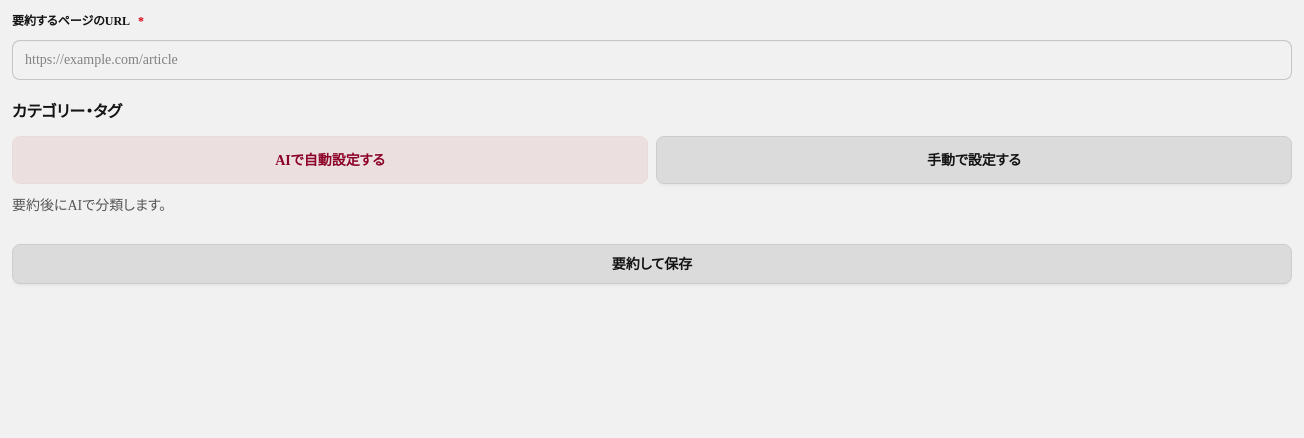
Test: メモ作成フォーム › AI要約作成でもカテゴリー別の未入力タグ候補を表示する
Click the button "手動で設定する" at (974, 160), box top-left (656, 136), bottom-right (1292, 184)
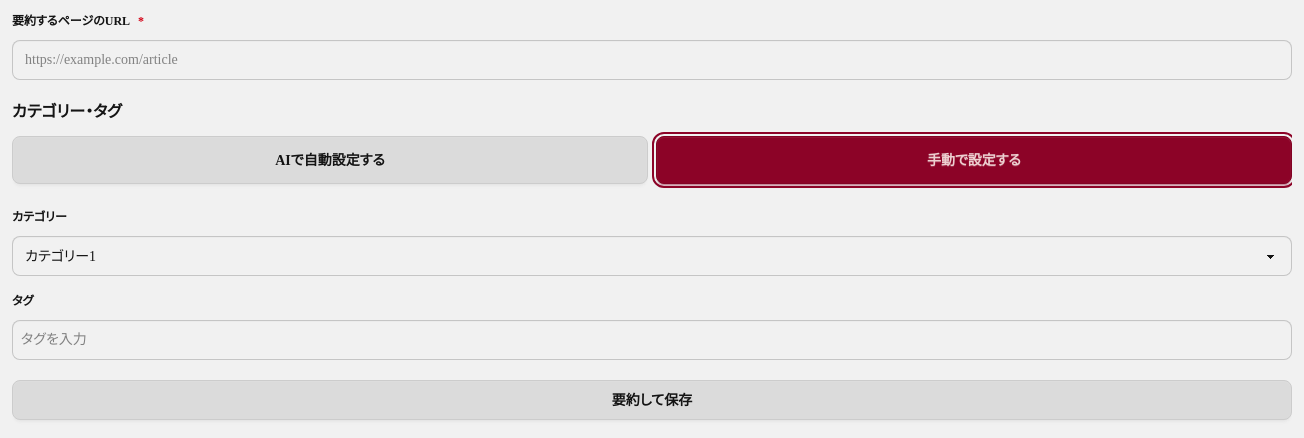
Click the dropdown labelled "タグ" at (652, 340), box top-left (21, 332), bottom-right (1283, 348)
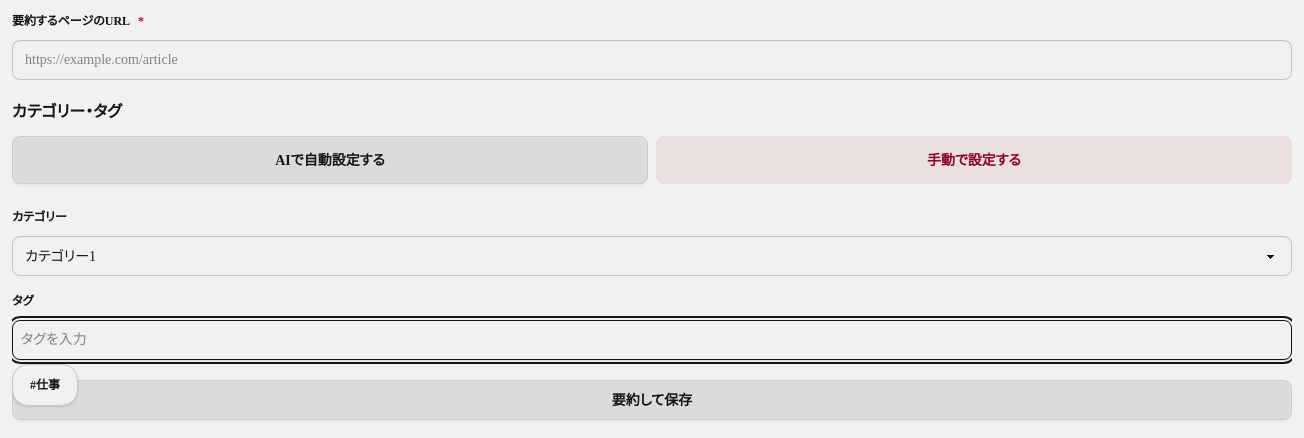
expect the option "#仕事" is shown: met, box top-left (17, 369), bottom-right (73, 401)
